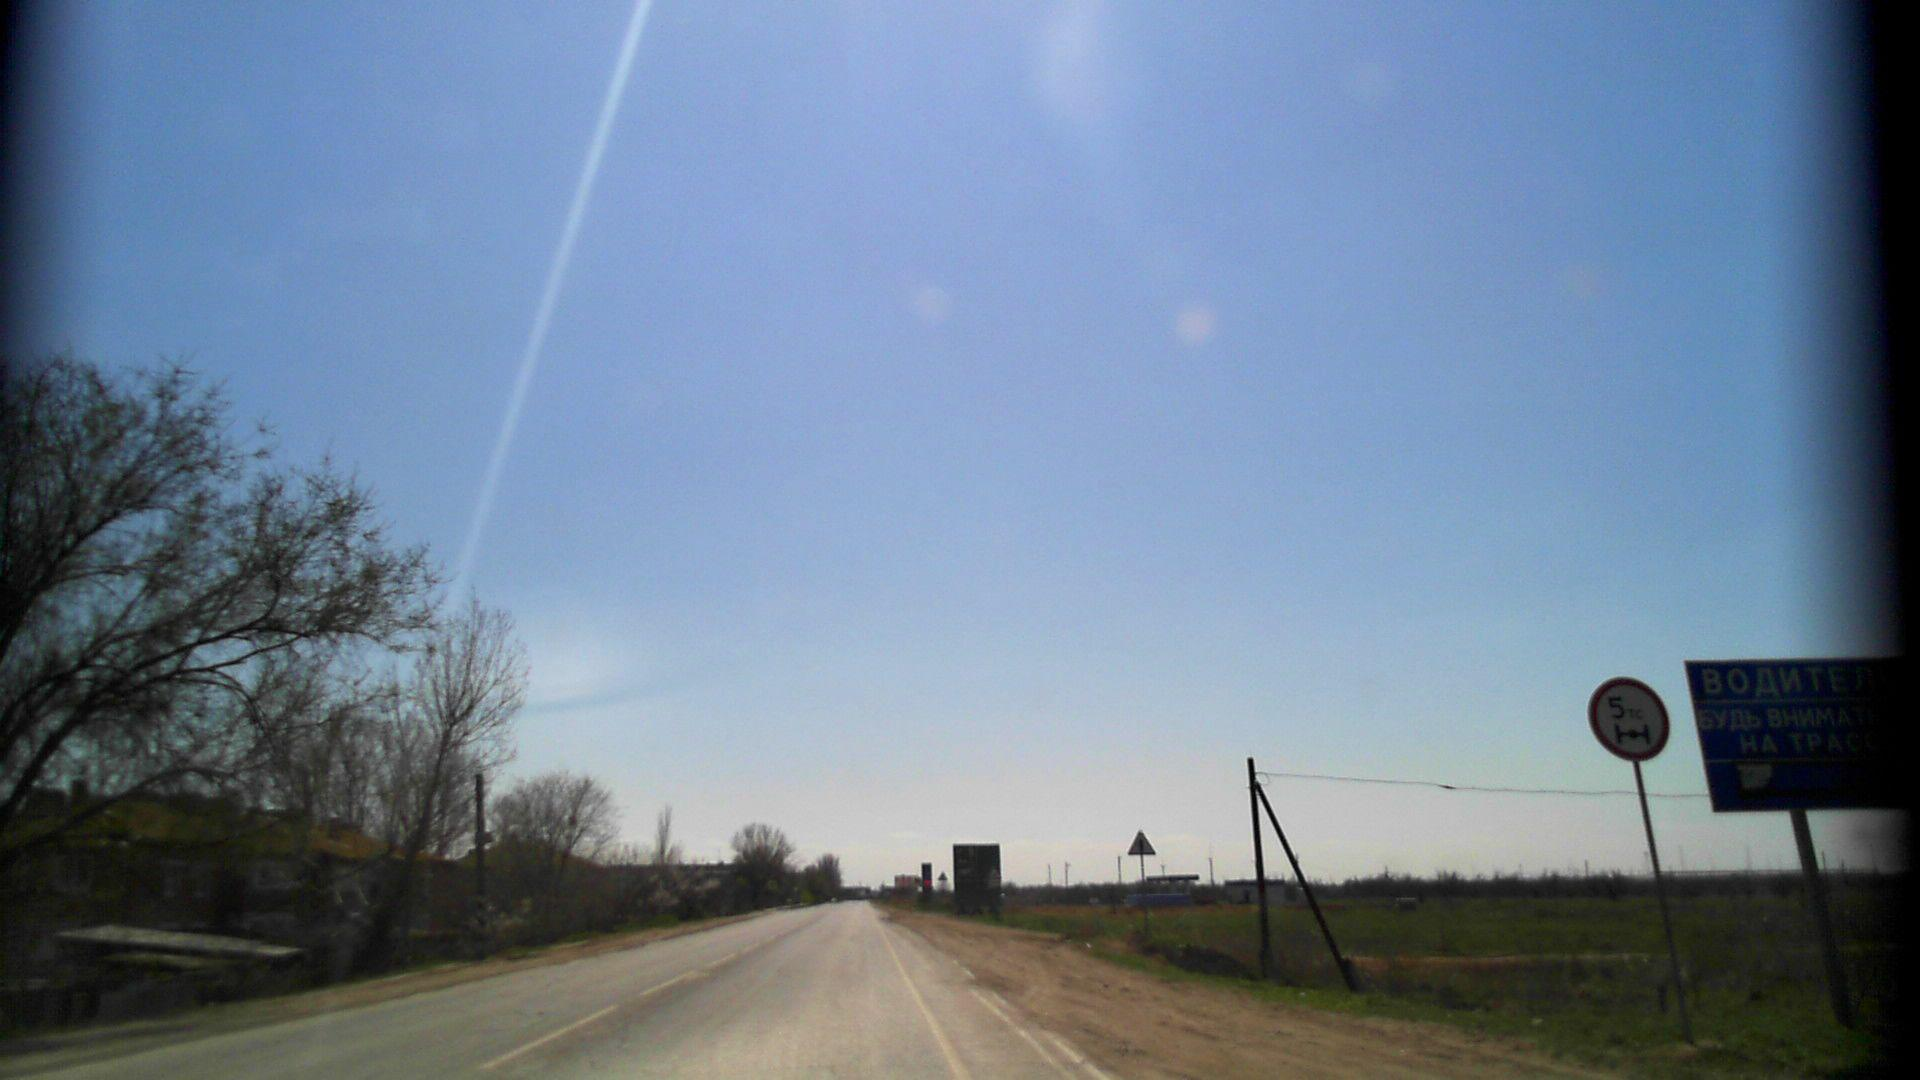3_12: (1582, 669, 1673, 764)
